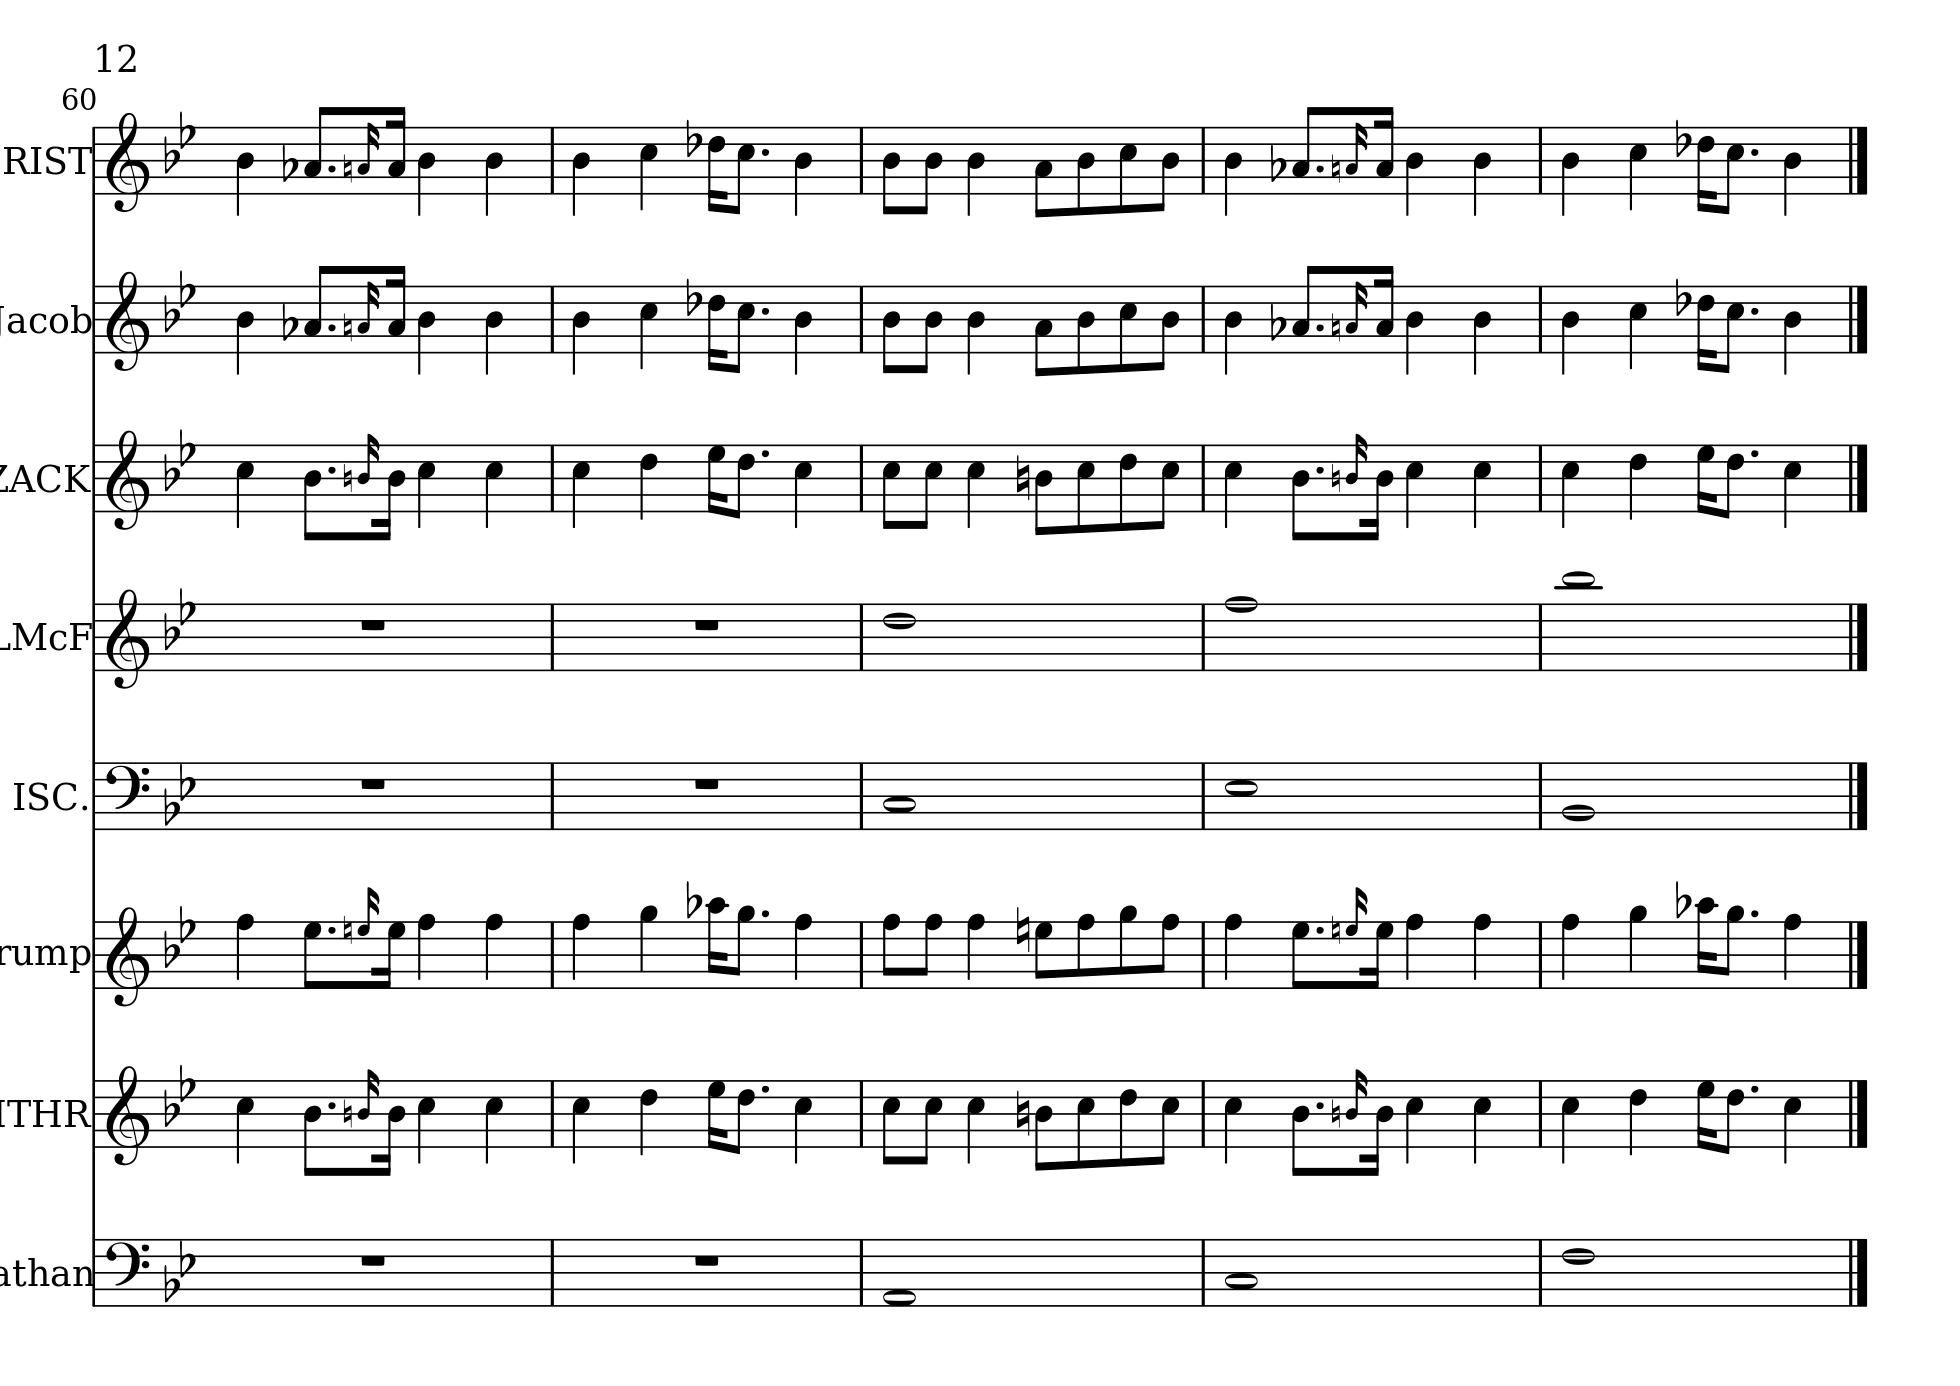0: (79, 82, 97, 114)
1: (94, 40, 112, 73)
16_10: (1693, 895, 1719, 988), (703, 895, 727, 988)
16_3: (384, 103, 406, 193), (384, 262, 406, 352), (1374, 103, 1395, 195), (1374, 262, 1395, 352)
16_4: (373, 442, 406, 543), (1362, 442, 1395, 541), (373, 1078, 406, 1177), (1362, 1078, 1395, 1177)
16_6: (705, 124, 727, 214), (1695, 124, 1716, 214), (706, 283, 727, 372), (1695, 283, 1716, 372)
16_7: (372, 919, 406, 991), (1362, 919, 1395, 991), (705, 442, 726, 516), (1695, 442, 1716, 514), (1695, 1078, 1716, 1150), (706, 1078, 726, 1150)
1_1: (880, 1234, 916, 1309)
1_12: (1558, 570, 1597, 673)
1_2: (1560, 757, 1597, 832)
1_3: (882, 760, 916, 832), (1224, 1237, 1257, 1306)
1_5: (1224, 760, 1258, 832)
1_6: (1560, 1236, 1597, 1309), (882, 601, 916, 673)
1_8: (1224, 594, 1258, 673)
2: (115, 42, 138, 73)
4_4: (234, 124, 256, 217), (483, 124, 505, 217), (1404, 124, 1426, 217), (1471, 124, 1494, 217), (1560, 124, 1582, 217), (1782, 124, 1804, 217), (234, 283, 256, 376), (1471, 283, 1494, 376), (1560, 283, 1582, 376), (1782, 283, 1804, 376), (415, 126, 438, 217), (571, 124, 592, 217), (793, 124, 814, 217), (1224, 124, 1245, 217), (415, 283, 436, 376), (483, 283, 504, 376), (571, 283, 592, 376), (966, 283, 987, 376), (1404, 283, 1425, 376), (966, 126, 987, 217), (793, 283, 813, 376), (1224, 283, 1243, 376)
4_5: (637, 124, 660, 214), (1627, 124, 1650, 214), (234, 441, 256, 531), (1627, 283, 1650, 372), (234, 1077, 256, 1165), (483, 1077, 505, 1165), (1471, 1077, 1494, 1165), (483, 442, 505, 529), (1471, 442, 1494, 529), (1560, 442, 1582, 529), (570, 1078, 592, 1165), (792, 1078, 814, 1165), (964, 1078, 987, 1165), (1222, 1078, 1245, 1165), (1560, 1078, 1582, 1165), (1782, 1078, 1804, 1165), (637, 283, 658, 372), (1224, 442, 1245, 531), (415, 1077, 436, 1165), (415, 442, 436, 529), (571, 442, 592, 529), (793, 442, 814, 529), (966, 442, 987, 529), (1782, 442, 1803, 529), (1405, 1077, 1425, 1165), (1405, 442, 1425, 529)
4_6: (1627, 442, 1650, 522), (1627, 1078, 1650, 1158), (637, 1078, 658, 1158), (637, 442, 658, 520)
4_8: (1471, 910, 1495, 991), (1560, 910, 1584, 991), (483, 910, 505, 991), (570, 910, 592, 991), (964, 910, 987, 991), (1222, 910, 1245, 991), (1782, 910, 1804, 991), (792, 912, 814, 991), (234, 912, 256, 990), (1404, 912, 1426, 990), (415, 910, 436, 990)
4_9: (637, 903, 660, 990), (1627, 903, 1650, 990)
6: (61, 84, 79, 112)
8_3: (301, 103, 331, 193), (301, 264, 331, 352), (1290, 264, 1320, 352), (1291, 105, 1320, 195), (1033, 124, 1054, 220), (1033, 283, 1054, 378)
8_4: (915, 124, 943, 216), (915, 283, 943, 375), (1153, 124, 1182, 213), (1153, 283, 1182, 370), (880, 124, 904, 217), (880, 283, 904, 375), (301, 442, 322, 543), (301, 1077, 322, 1177), (1290, 442, 1311, 541), (1290, 1078, 1311, 1177), (1075, 124, 1096, 217), (1075, 283, 1096, 376), (1035, 1077, 1054, 1171), (1035, 442, 1053, 535)
8_5: (1152, 1077, 1180, 1165), (1152, 442, 1180, 529), (916, 442, 943, 529), (916, 1078, 943, 1165), (730, 124, 756, 216), (730, 283, 756, 375), (1722, 126, 1746, 216), (1722, 283, 1746, 373), (1075, 441, 1096, 534), (1075, 1077, 1096, 1170), (1117, 124, 1138, 214), (1117, 283, 1138, 373), (880, 442, 901, 531), (880, 1078, 901, 1167)
8_6: (1116, 442, 1138, 532), (1116, 1078, 1138, 1168), (730, 442, 756, 520), (1720, 442, 1746, 520), (730, 1078, 756, 1156), (1722, 1078, 1746, 1156)
8_7: (301, 919, 325, 991), (1290, 919, 1314, 990), (1033, 919, 1054, 990)
8_8: (1153, 912, 1182, 990), (916, 912, 943, 990), (1074, 912, 1098, 991), (880, 910, 901, 991)
8_9: (1719, 903, 1746, 990), (730, 904, 756, 990), (1117, 904, 1140, 990)
B_F: (162, 106, 196, 174), (162, 265, 196, 331), (162, 424, 196, 490), (162, 1060, 196, 1126), (163, 901, 196, 967), (163, 1236, 196, 1302), (163, 585, 196, 649), (163, 760, 195, 825)
Fclef: (103, 1237, 151, 1306), (105, 760, 151, 831)
Final_barline: (1842, 1237, 1872, 1306), (1845, 283, 1873, 352), (1843, 442, 1872, 511), (1843, 601, 1872, 670), (1843, 1078, 1872, 1147), (1845, 124, 1872, 193), (1845, 760, 1872, 829), (1845, 919, 1872, 988)
Flat: (1672, 274, 1690, 318), (1269, 139, 1287, 181), (1672, 117, 1690, 159), (682, 276, 700, 318), (1269, 298, 1287, 340), (1674, 877, 1692, 919), (682, 118, 700, 159), (280, 298, 297, 340), (684, 877, 700, 919), (280, 141, 297, 181)
Gclef: (103, 109, 151, 214), (105, 427, 151, 532), (105, 268, 151, 372), (105, 586, 151, 690), (106, 904, 151, 1008), (105, 1063, 150, 1167)
Natural: (1014, 451, 1032, 501), (1014, 904, 1032, 954), (1014, 1087, 1032, 1137), (340, 912, 354, 946), (1329, 912, 1342, 946), (1329, 460, 1342, 493), (1329, 1096, 1342, 1129), (342, 151, 354, 184), (340, 310, 352, 343), (1330, 151, 1341, 184), (1330, 310, 1341, 343), (342, 460, 352, 493), (342, 1096, 352, 1129)
Rests1: (355, 1249, 390, 1270), (357, 613, 390, 634), (357, 772, 388, 793), (691, 615, 723, 633), (691, 774, 723, 792), (691, 1249, 723, 1267)
Single_barline: (1194, 603, 1213, 670), (1531, 762, 1551, 829), (1194, 1237, 1213, 1305), (1531, 1239, 1551, 1306), (1531, 604, 1551, 670), (1194, 762, 1213, 828), (853, 603, 871, 670), (1195, 919, 1213, 987), (853, 762, 871, 828), (544, 921, 562, 987), (1533, 921, 1551, 987), (1533, 126, 1549, 193), (1533, 285, 1549, 352), (544, 127, 561, 193), (544, 286, 561, 352), (1533, 444, 1549, 510), (853, 445, 870, 511), (1195, 445, 1212, 511), (544, 604, 561, 670), (853, 921, 870, 987), (544, 1080, 561, 1146), (853, 1080, 870, 1146), (1533, 1080, 1549, 1146), (544, 1239, 561, 1305), (853, 1239, 870, 1305), (544, 445, 561, 510), (544, 763, 561, 828), (1195, 1081, 1212, 1146), (1197, 126, 1212, 193), (88, 127, 103, 195), (1197, 285, 1212, 352), (88, 444, 103, 511), (853, 127, 868, 192), (853, 286, 868, 351), (88, 1078, 102, 1147), (88, 285, 102, 352), (88, 603, 102, 670), (90, 1239, 103, 1305), (88, 919, 100, 988), (88, 763, 100, 829)
dot: (757, 445, 772, 460), (1747, 445, 1762, 460), (757, 145, 772, 159), (1747, 145, 1761, 160), (1747, 303, 1761, 318), (757, 304, 772, 318), (757, 1081, 771, 1096), (1747, 1081, 1761, 1096), (325, 319, 337, 333), (1312, 463, 1326, 475), (325, 1098, 337, 1111), (1312, 1099, 1326, 1111), (325, 162, 337, 174), (1314, 162, 1326, 174), (1314, 321, 1326, 333), (325, 463, 337, 475), (759, 907, 771, 919), (1749, 907, 1761, 919), (325, 922, 337, 934), (1314, 924, 1326, 934)
